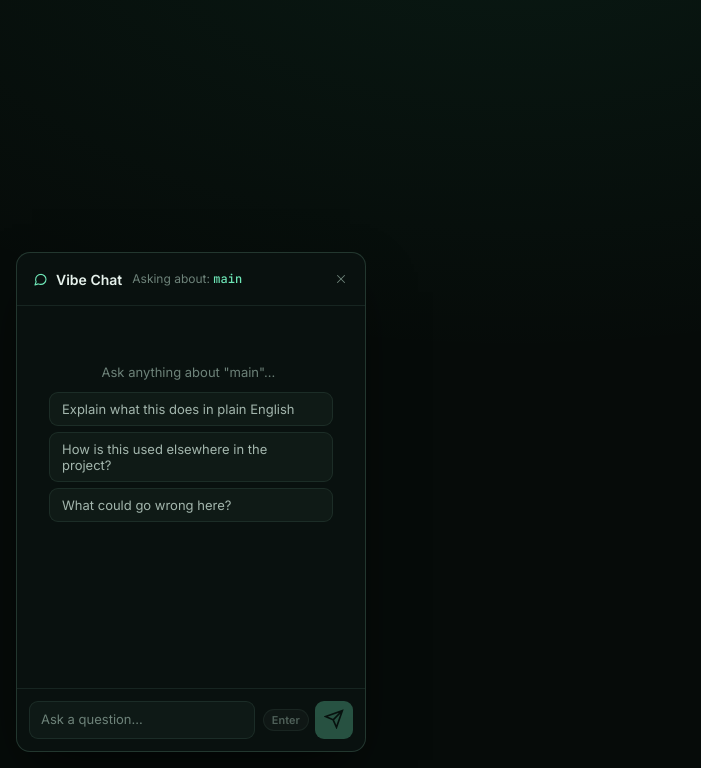
it: ChatDrawer › shows error message when both stream and fallback fail
The image size is (701, 768).
In the text box with placeholder "Ask a question...": coordinates (142, 720) [29, 701, 255, 739], type "test"
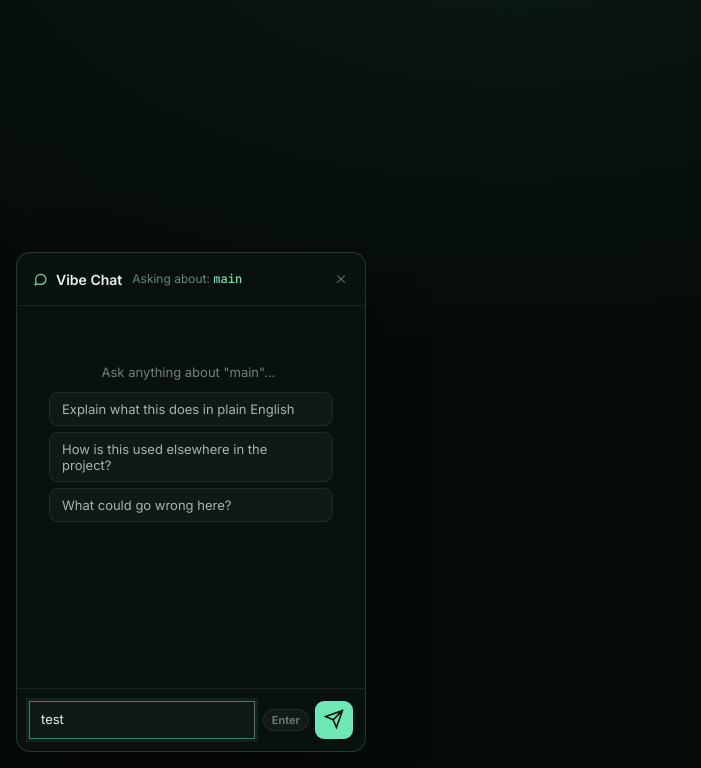
Click the button named "Send message": coordinates (334, 720) [315, 701, 353, 739]
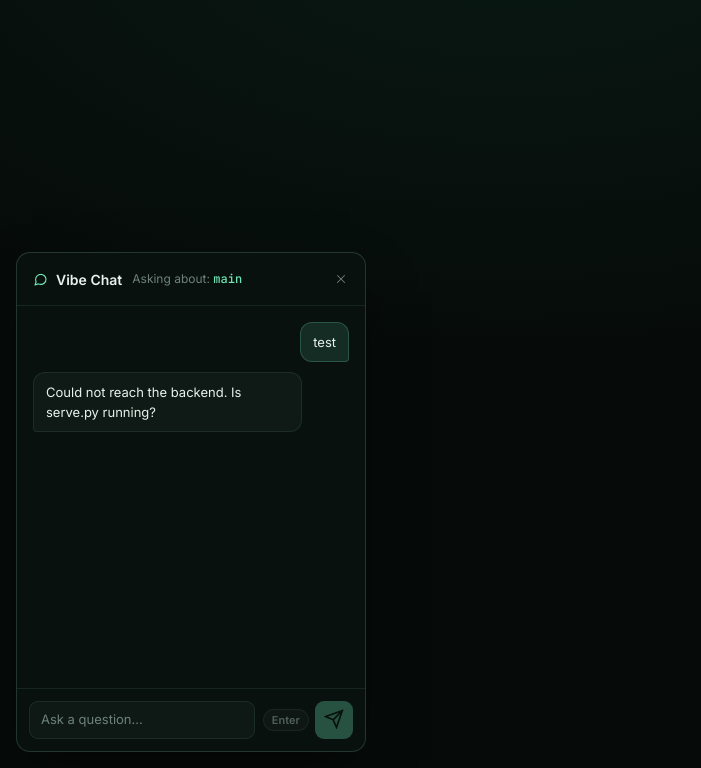
Expected: the text "Could not reach the backend. Is serve.py running?" is shown, [46, 384, 241, 420]
